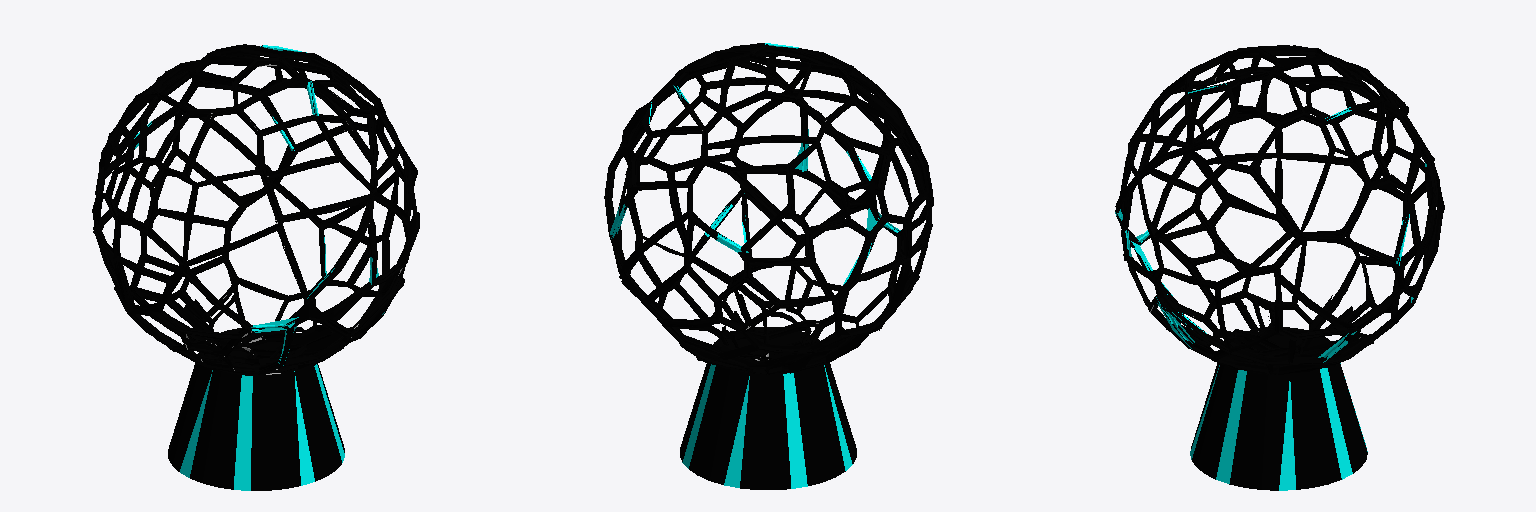
File: globeofdeath.obj
The picture shows the model from 3 angles: view 1: azimuth 30°, elevation 25°; view 2: azimuth 150°, elevation 25°; view 3: azimuth 270°, elevation 25°; orthographic projection.
Parts seen in each view (by area): view 1: globe_d_s; view 2: globe_d_s; view 3: globe_d_s.
Part boxes in pixels (bbox=[...]): globe_d_s: bbox=[92, 44, 419, 490]; globe_d_s: bbox=[604, 43, 933, 489]; globe_d_s: bbox=[1115, 45, 1444, 490].
Bounding box in the file's own units: 13.29 × 17.5 × 13.3.